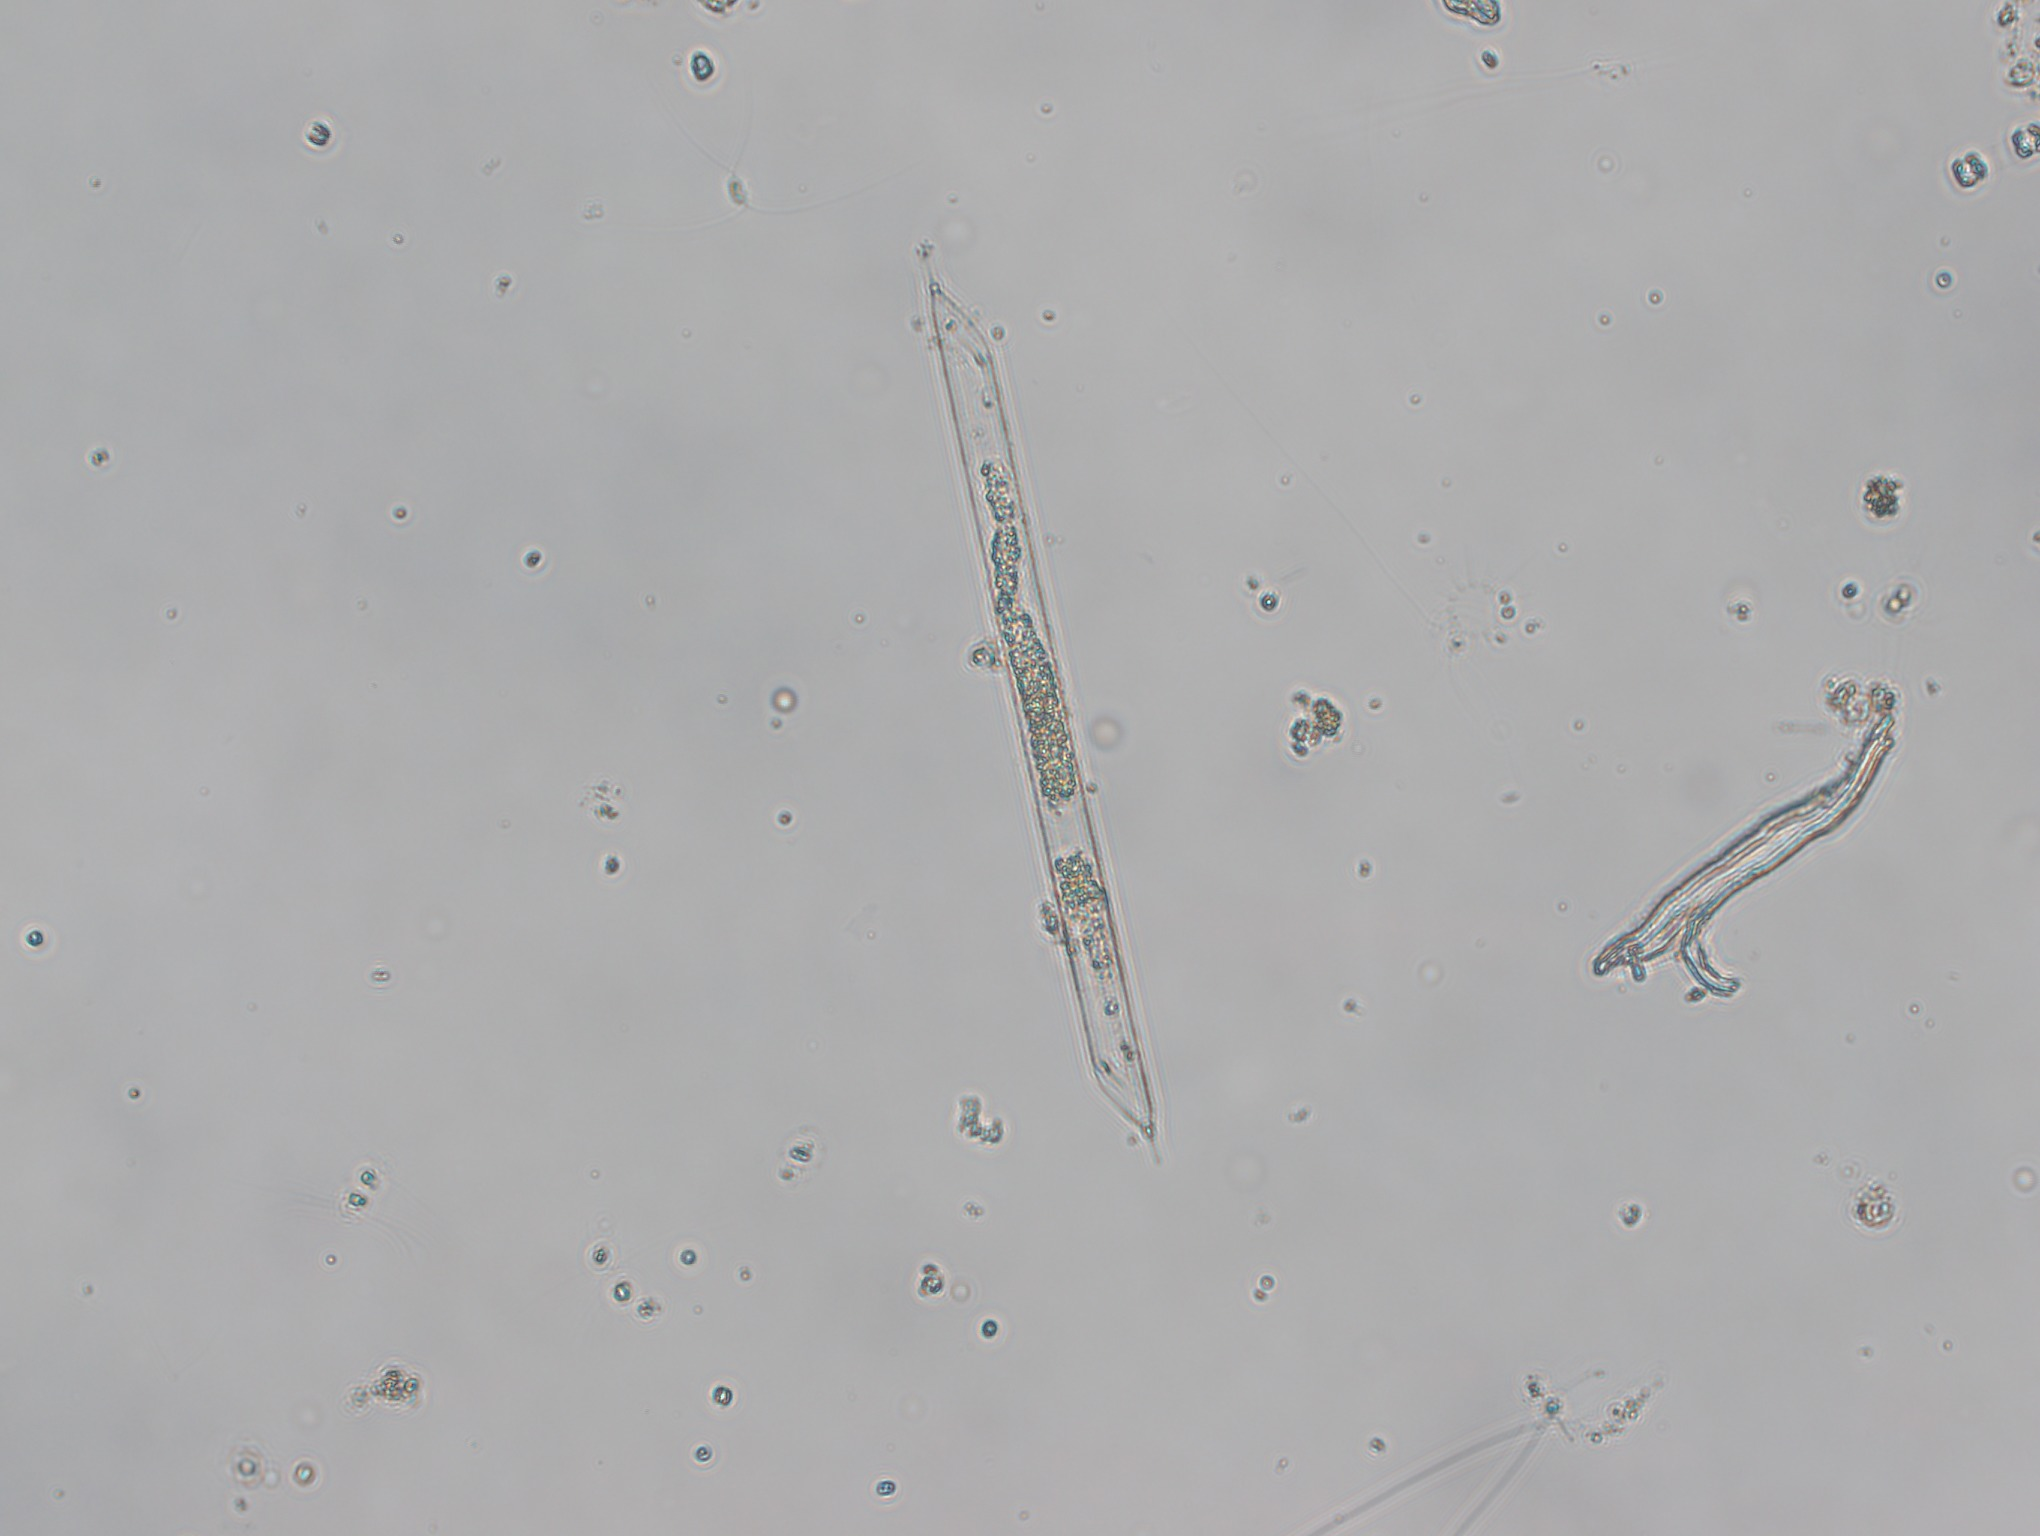rhizosolenia: (926, 253, 1163, 1168)
